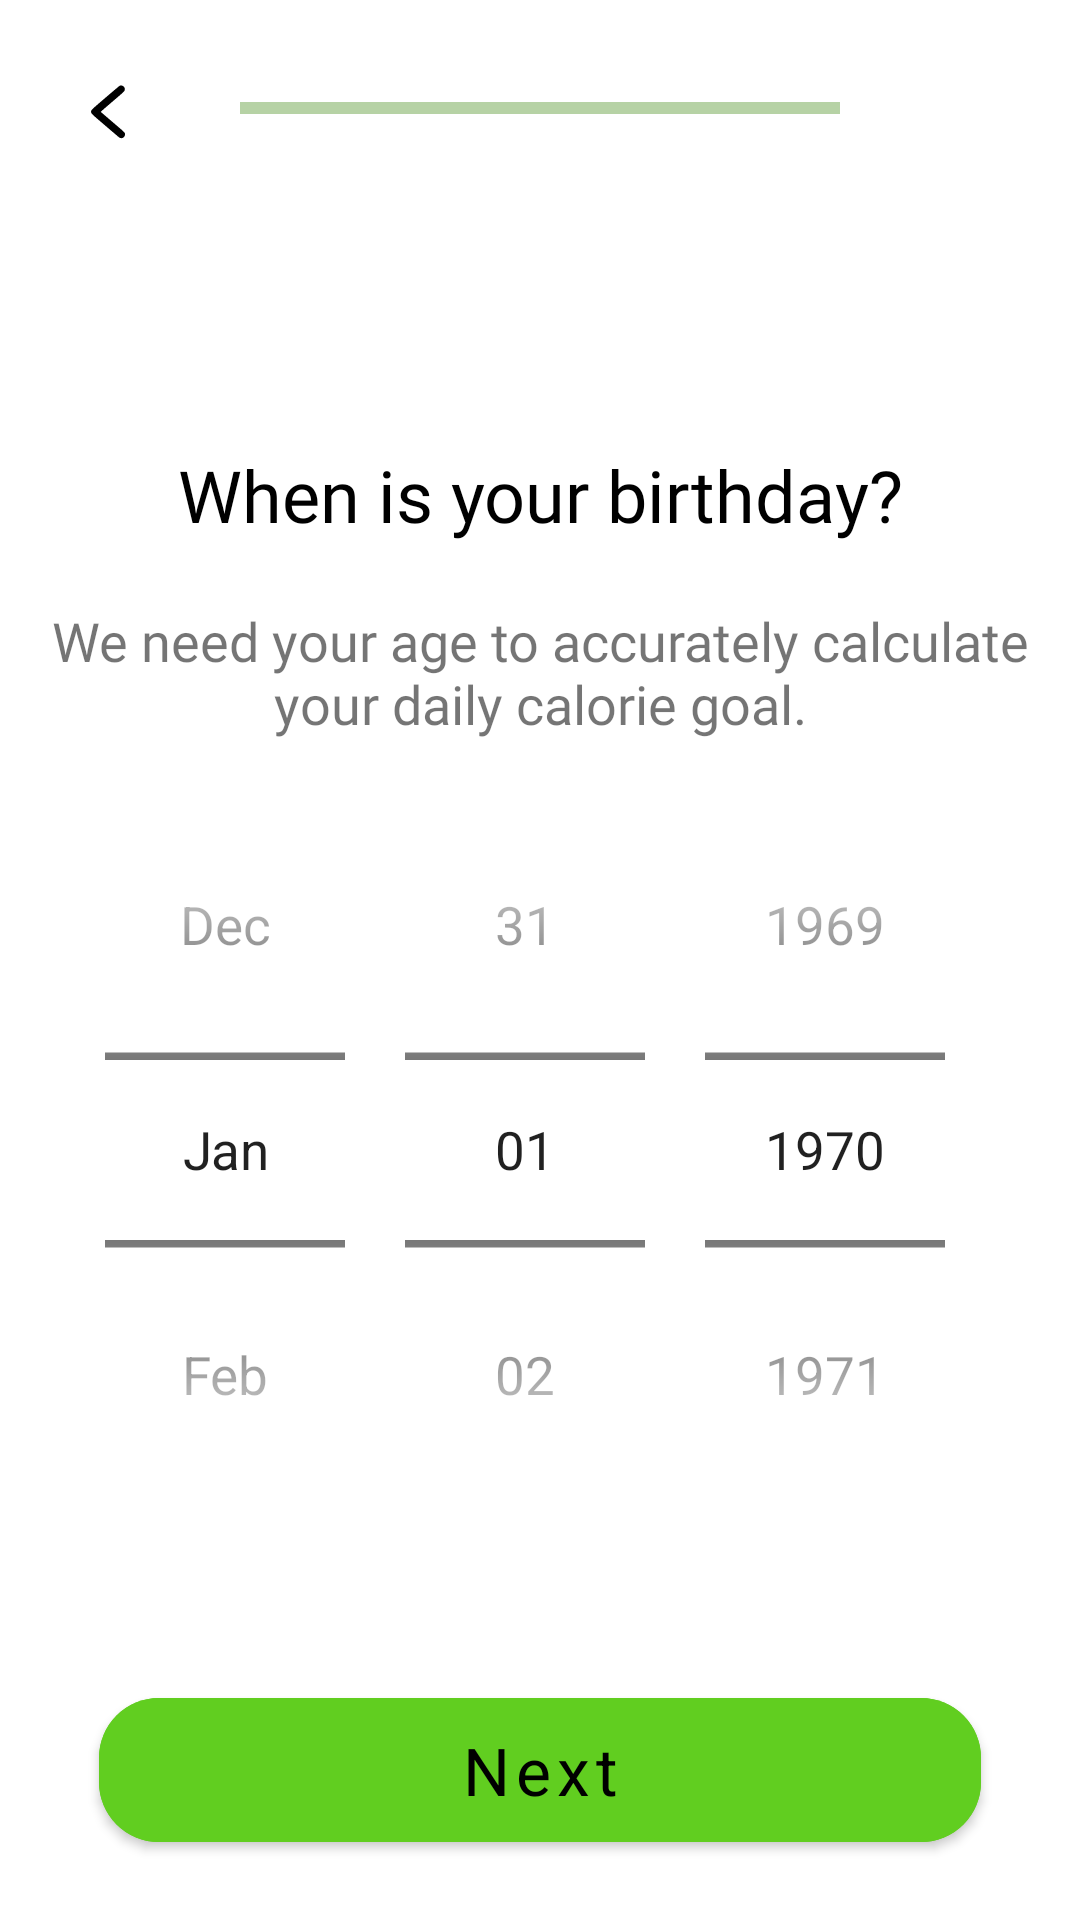

Named icons in this screenshot (1080w x 1920h) and their bounding boxes, (x1,y1,x2,y2):
arrow back: (91,85,125,139)
